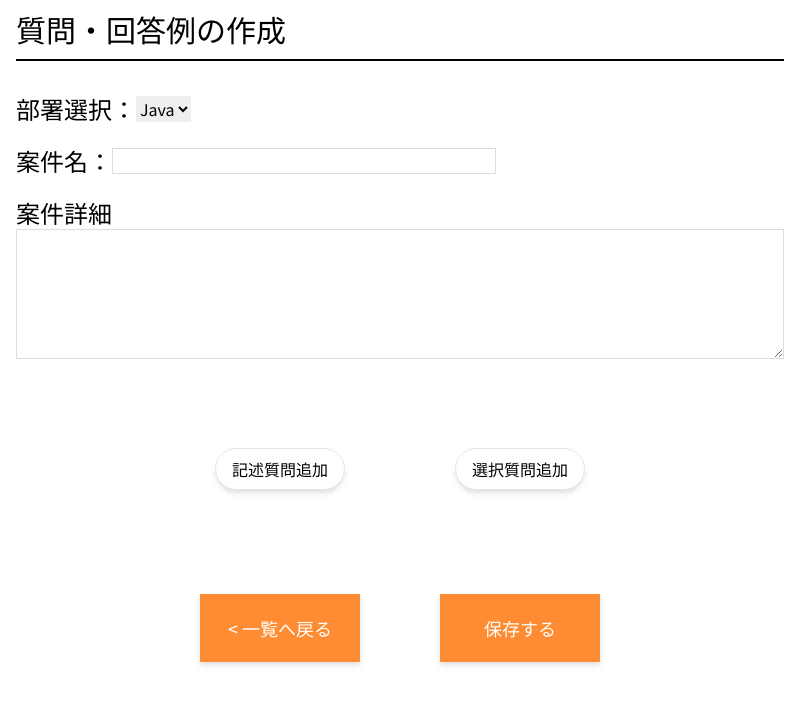
Test: 質問・回答例作成画面テスト › バリデーションテスト（質問未設定）
The image size is (801, 707).
In the field with test id "projectName": (304, 161) left=112, top=148, right=496, bottom=174, type "test"
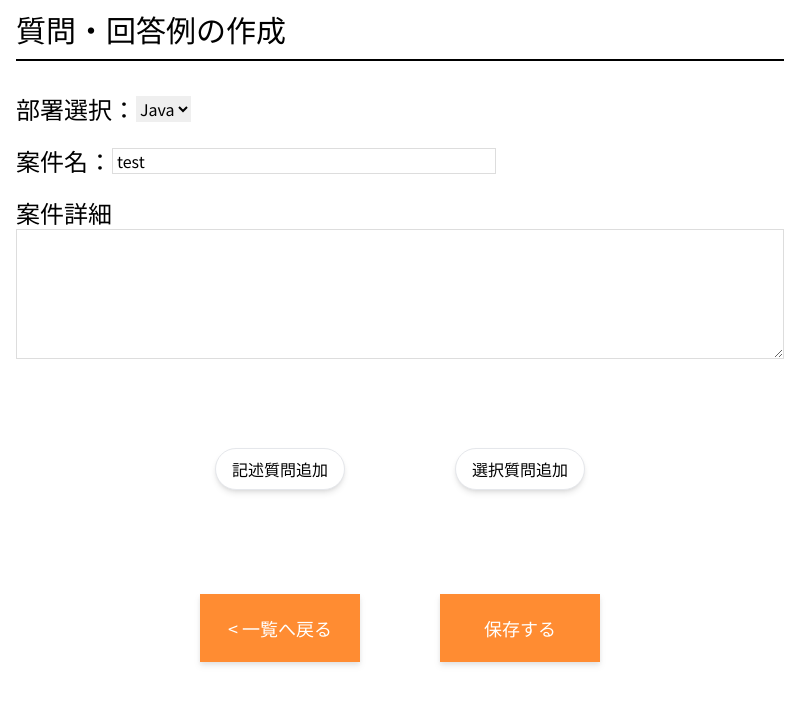
In the text box with test id "projectDetail": (400, 294) left=16, top=229, right=784, bottom=359, type "test"
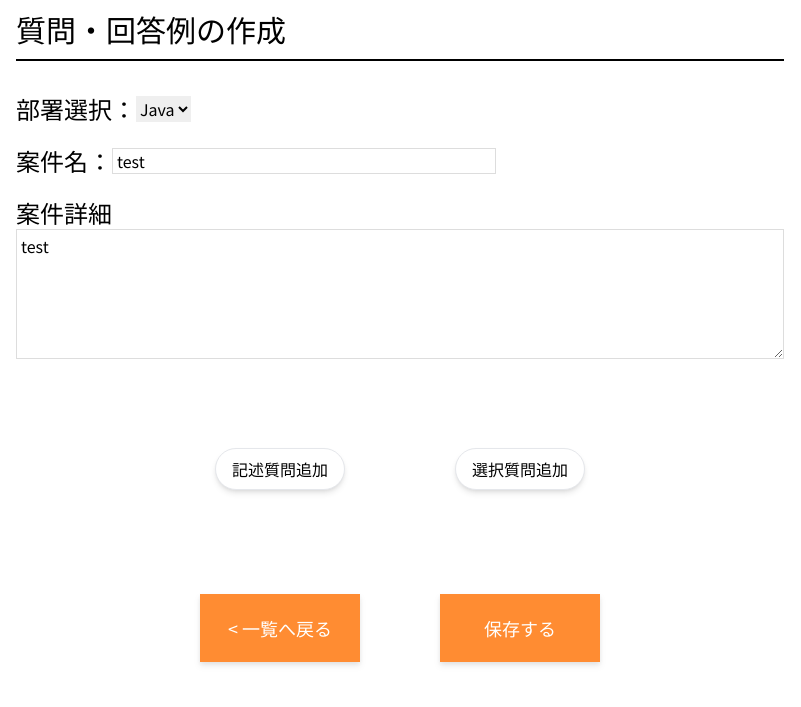
Click the button with test id "sendButton": click(520, 628) left=440, top=594, right=600, bottom=662
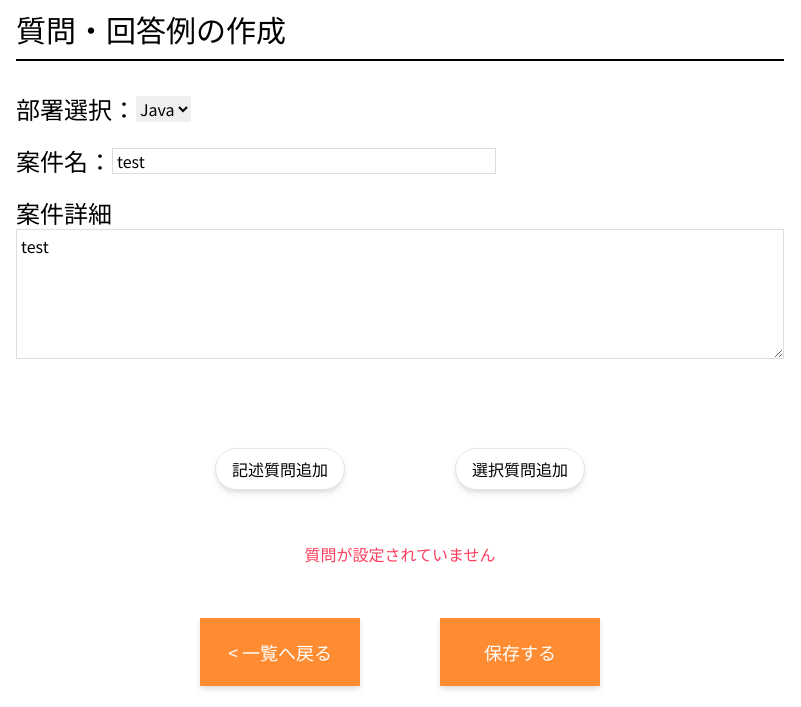
Check: the text with test id "errMsg" reads "質問が設定されていません", box left=304, top=542, right=496, bottom=566
